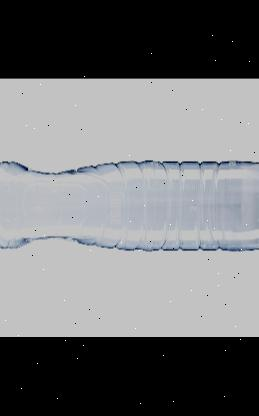Plastic Bottle: (0, 160, 259, 251)
